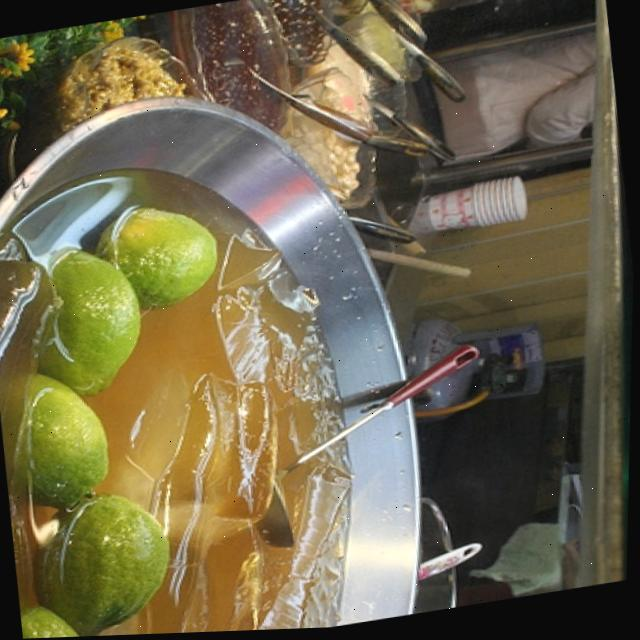蛋糕甜品: (0, 148, 387, 640)
